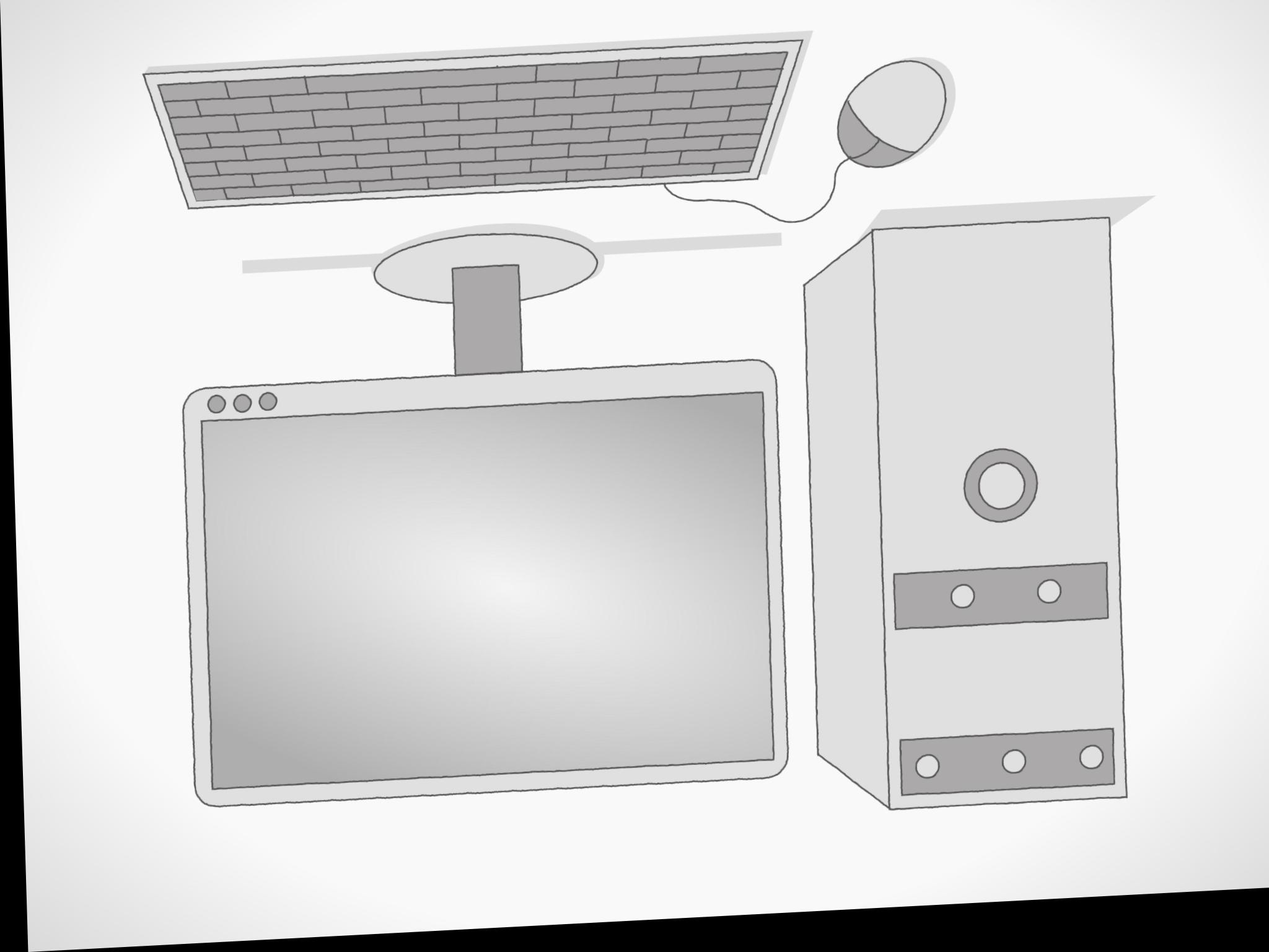keyboard: (151, 44, 808, 215)
monitor: (191, 371, 801, 812)
mouse: (835, 62, 954, 172)
pc: (803, 220, 1132, 816)
